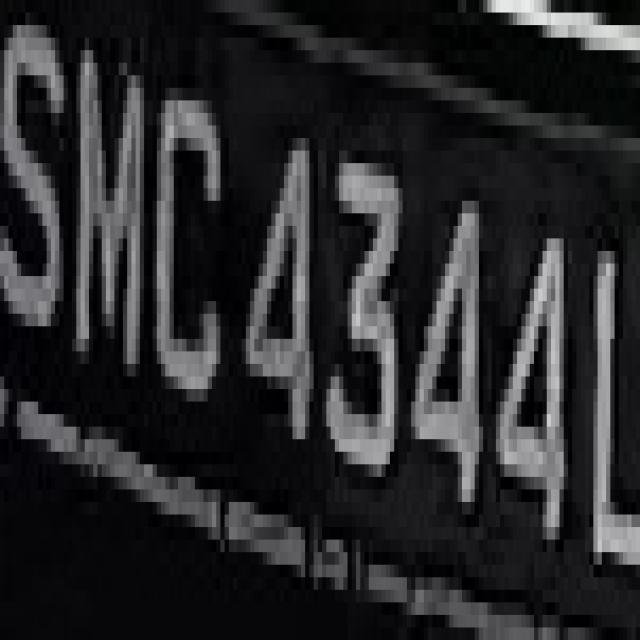3: (314, 126, 419, 540)
4: (496, 188, 589, 602), (399, 188, 500, 552), (246, 88, 330, 502)
C: (157, 50, 229, 452)
L: (589, 226, 640, 602)
M: (64, 25, 148, 427)
S: (4, 12, 72, 402)
